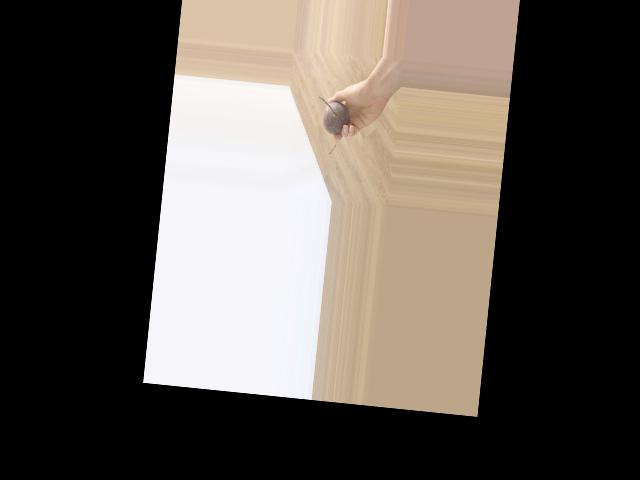beet: (313, 97, 351, 156)
